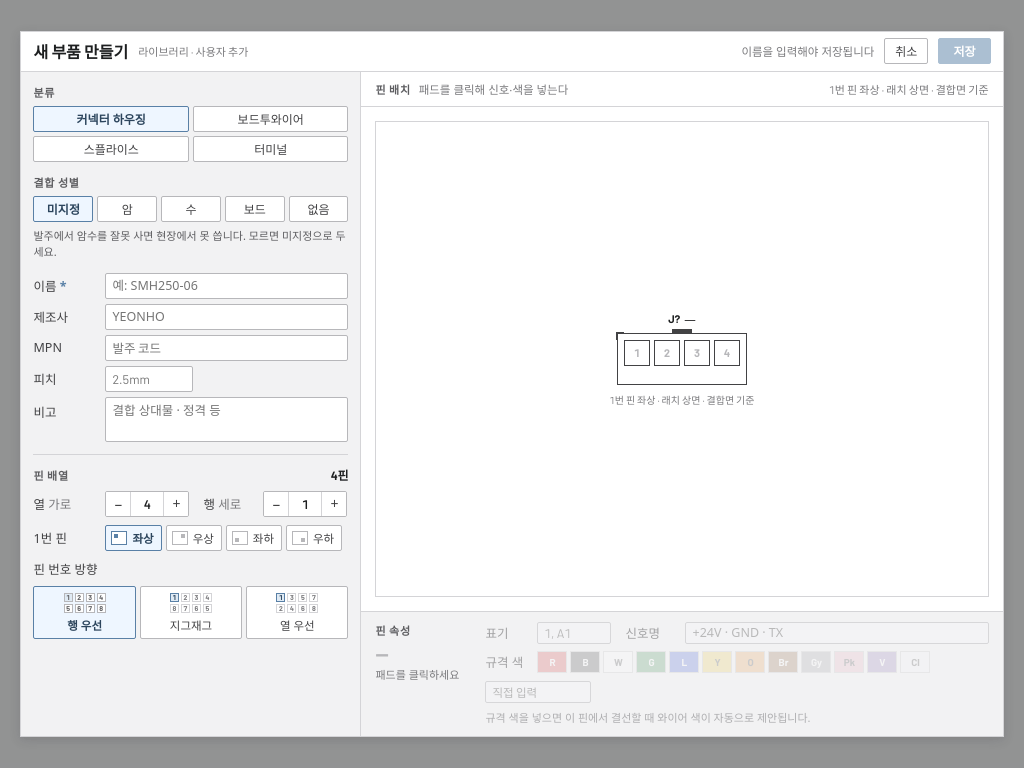
핀맵 에디터 — 2열 레이아웃 › 패드를 클릭하면 그 핀이 스트립에서 열리고 신호명이 패드 아래 캡션으로 붙는다
Click the button "2" at (667, 353), box left=654, top=340, right=680, bottom=366
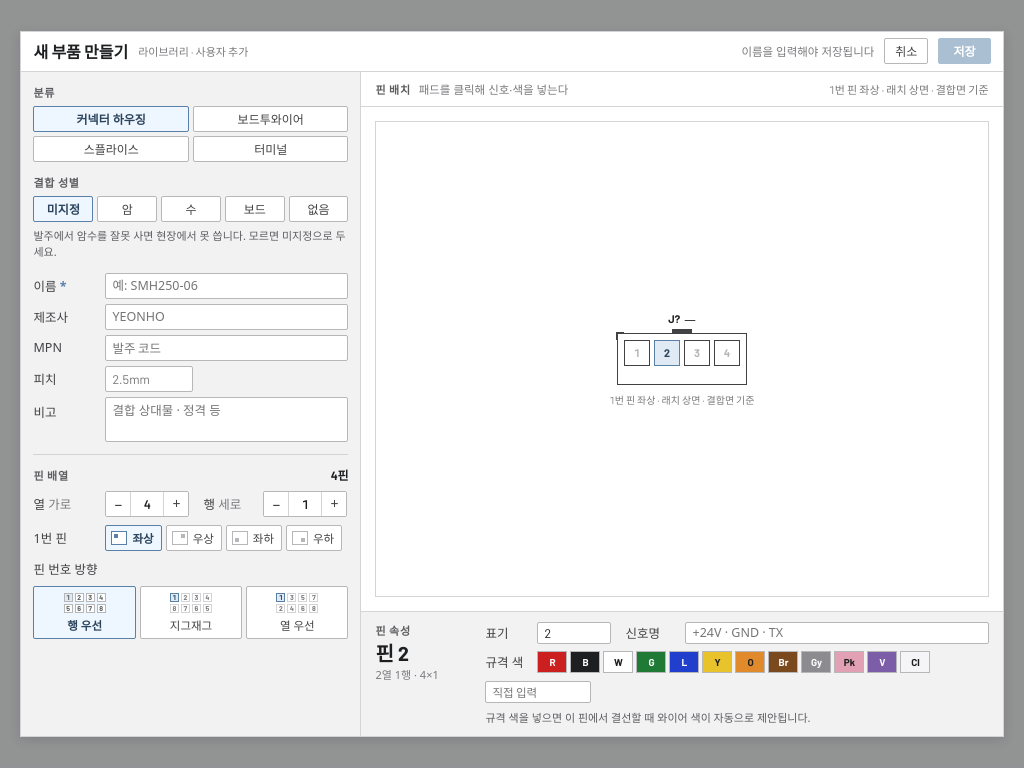
Check: the text "핀 2" is shown, box left=376, top=641, right=409, bottom=665
Check: the field named "신호명" is enabled
Type "GND" into the field named "신호명" at (837, 633), box left=686, top=622, right=988, bottom=644
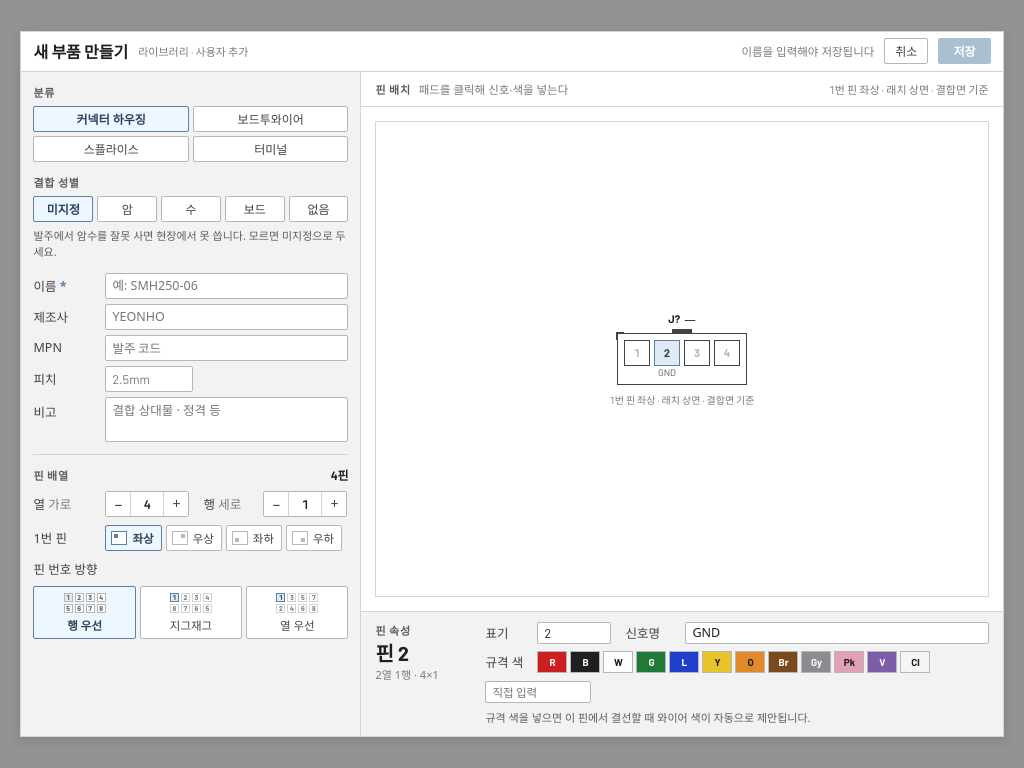
Check: the text "GND" is shown, box left=658, top=366, right=676, bottom=378
Click the button named "규격 색 흑" at (586, 662), box left=570, top=651, right=600, bottom=673
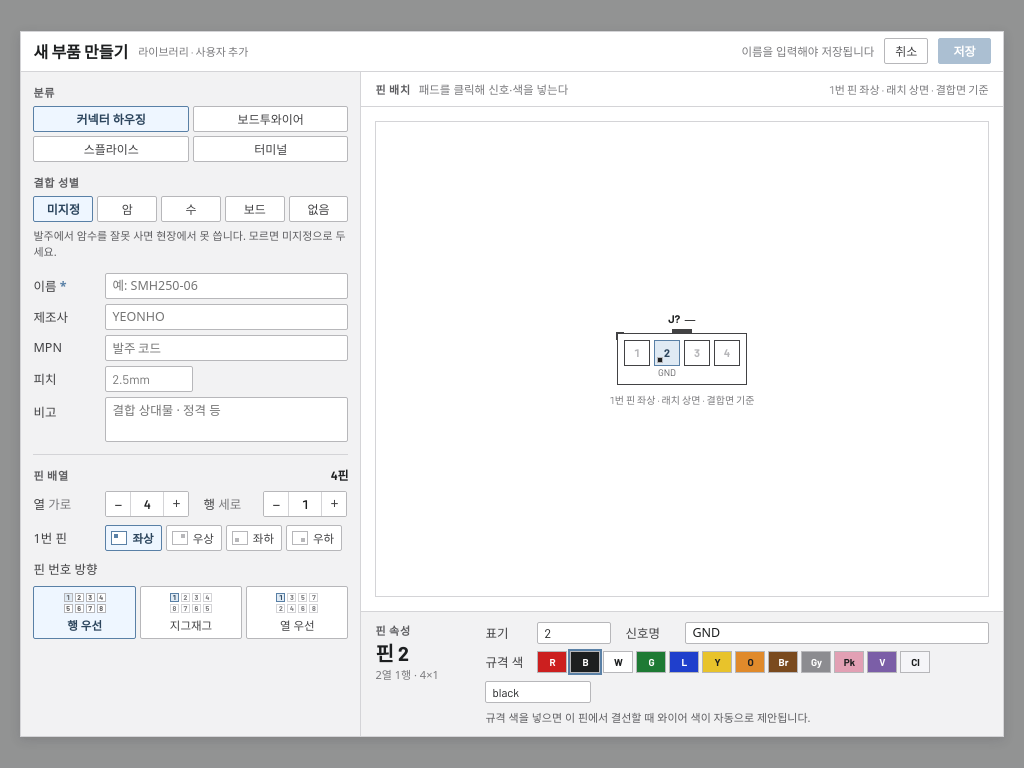
Check: the field named "규격 색 직접 입력" holds "black", box left=486, top=681, right=592, bottom=703
